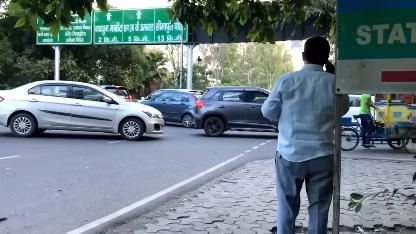car: (0, 81, 168, 139)
